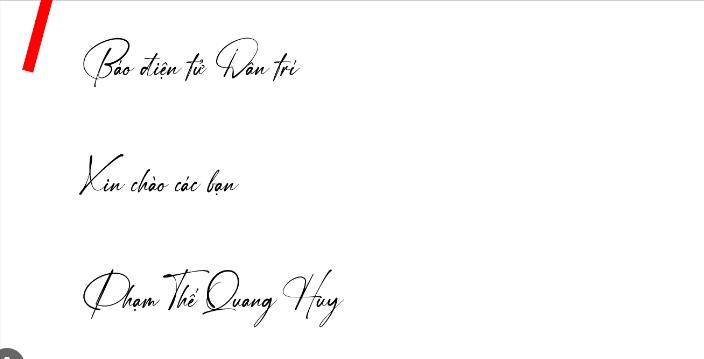text: (81, 263, 346, 331), (81, 32, 303, 91), (76, 149, 241, 200)
